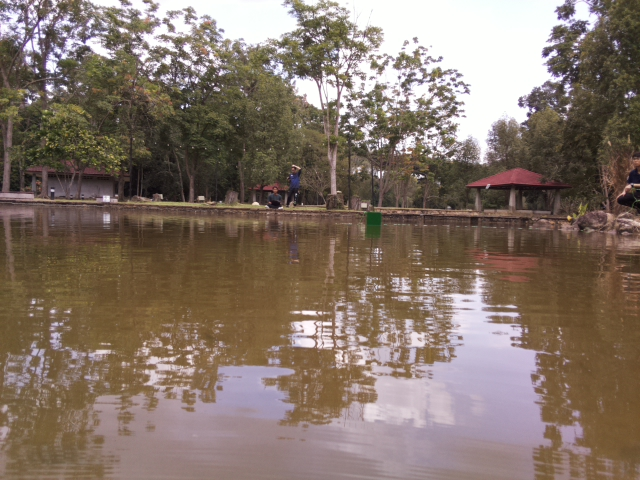obstacle: (365, 211, 383, 226)
